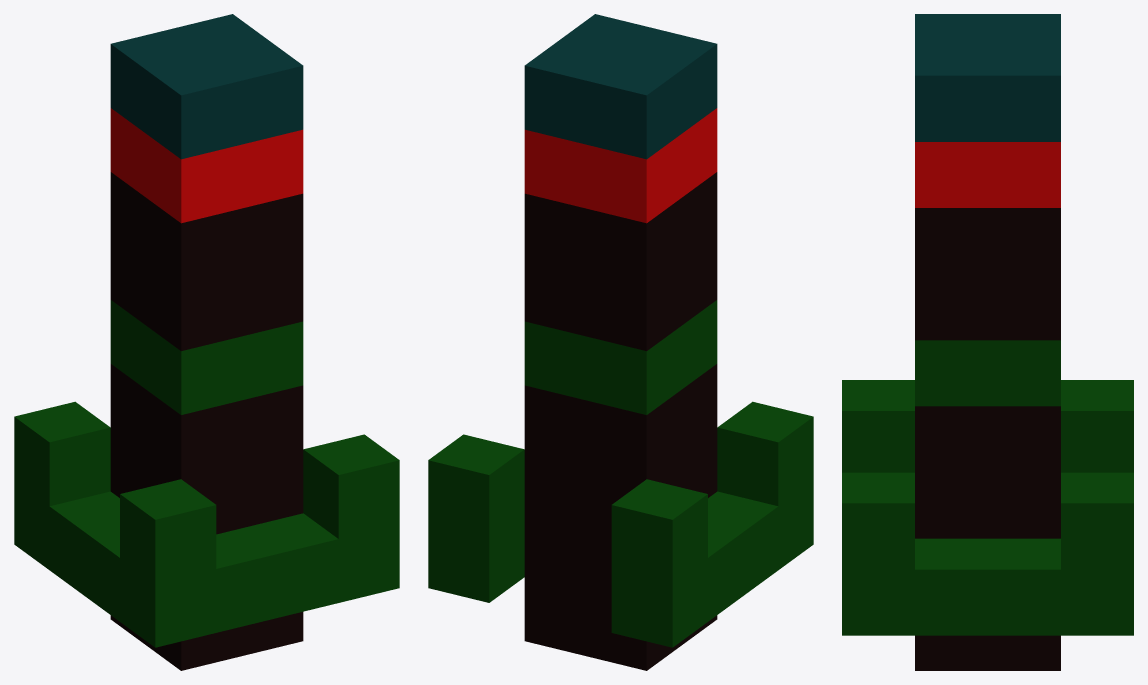
File: Torch.obj
The picture shows the model from 3 angles, left to right: view 1: azimuth 30°, elevation 25°; view 2: azimuth 150°, elevation 25°; view 3: azimuth 270°, elevation 25°; orthographic projection. The views are drawn at different scales.
Visible parts, largest first — view 1: Torch; view 2: Torch; view 3: Torch.
Boxes of the visible parts, bbox=[...] form: Torch: bbox=[14, 14, 399, 670]; Torch: bbox=[428, 14, 813, 670]; Torch: bbox=[842, 14, 1133, 670].
Size of the model in its own units: 4 by 9 by 4.
